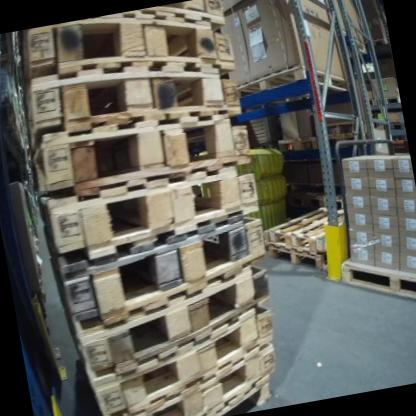pallet: (58, 211, 274, 335), (68, 258, 280, 377), (39, 161, 266, 272), (83, 295, 285, 416), (17, 39, 255, 136), (27, 98, 253, 199), (19, 0, 237, 99), (99, 342, 282, 416), (232, 51, 351, 110), (259, 198, 354, 263), (337, 249, 416, 319), (196, 373, 276, 416), (266, 238, 327, 277), (276, 131, 321, 156), (286, 189, 326, 213)
stillage: (236, 93, 285, 158)
